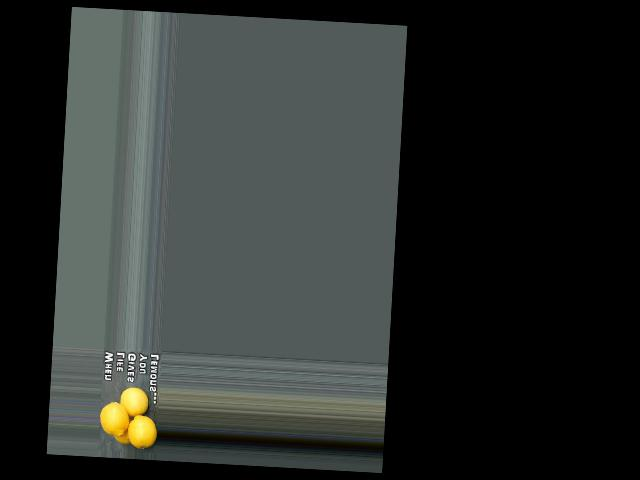lemon: (127, 412, 156, 449)
